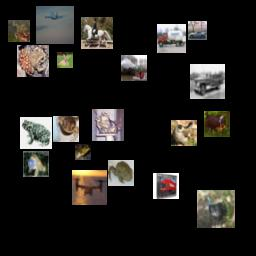airplane: (36, 6, 74, 44), (72, 170, 107, 205), (121, 55, 147, 81)
automobile: (188, 21, 207, 40)
bird: (197, 190, 235, 228), (171, 120, 197, 146), (204, 111, 230, 137)
cat: (92, 109, 124, 141)
deer: (57, 52, 73, 68)
frog: (17, 45, 49, 77), (20, 117, 52, 149), (23, 151, 49, 177), (53, 116, 79, 142), (108, 160, 134, 186), (8, 20, 30, 42), (75, 144, 91, 160)
truck: (190, 64, 225, 99), (157, 24, 186, 53), (153, 173, 179, 199)
